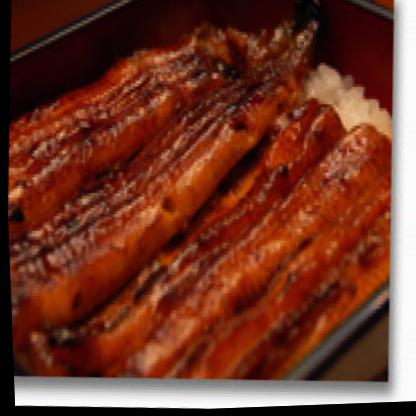eel: (1, 13, 404, 394)
